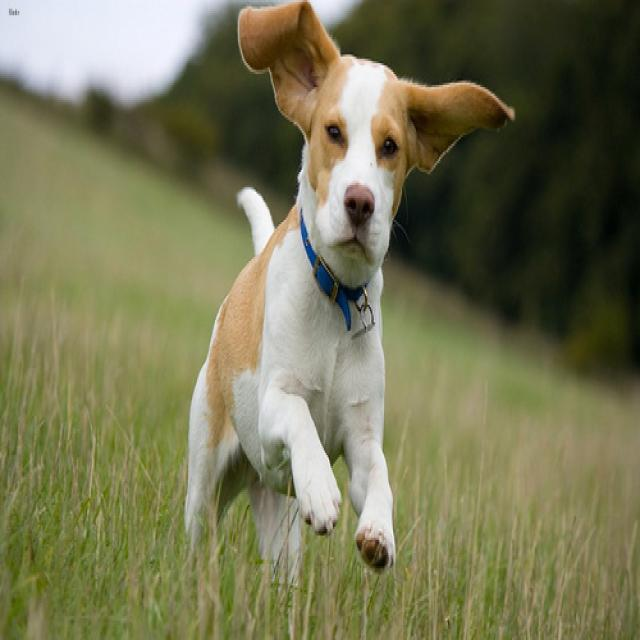dog-beagle: (170, 2, 521, 599)
